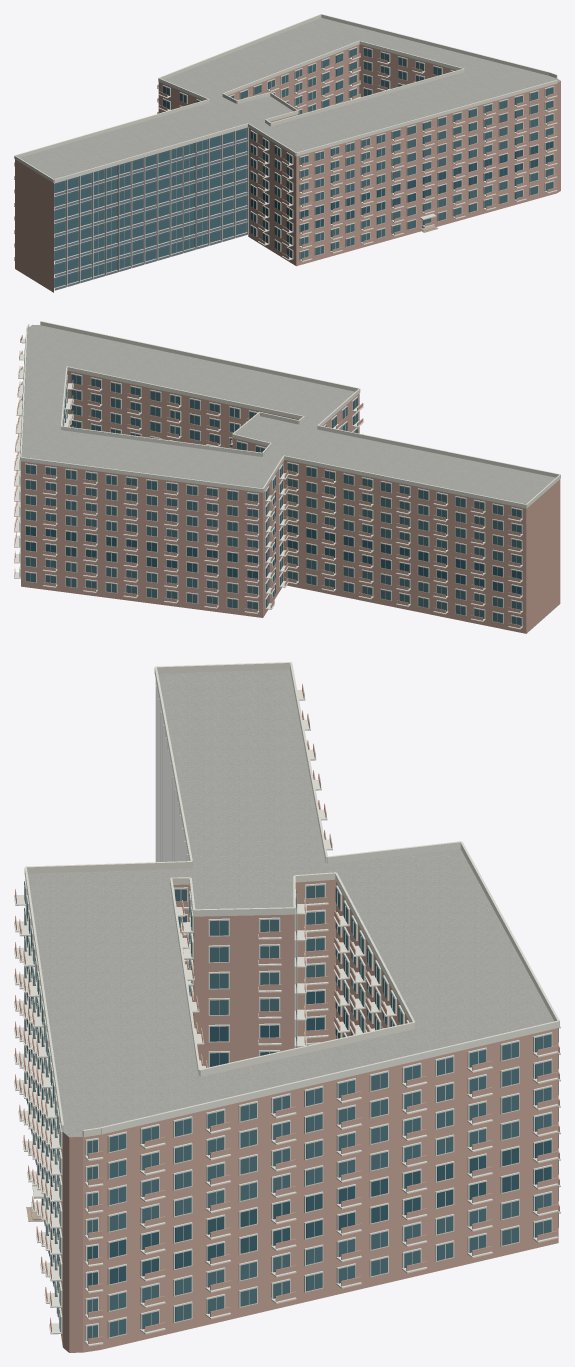
Rendered from chunk-dorm-relation-11971048.glb.
3 renders of one model, top to bottom at view 1: azimuth 30°, elevation 25°; view 2: azimuth 150°, elevation 25°; view 3: azimuth 270°, elevation 25°, orthographic. The views are drawn at different scales.
Visible parts, largest first — view 1: chunk-dorm-relation-11971048; view 2: chunk-dorm-relation-11971048; view 3: chunk-dorm-relation-11971048.
Part boxes in pixels (x1=…): chunk-dorm-relation-11971048: x1=14, y1=14, x2=560, y2=292; chunk-dorm-relation-11971048: x1=14, y1=321, x2=560, y2=633; chunk-dorm-relation-11971048: x1=14, y1=662, x2=560, y2=1352.
Size of the model in its own units: 127 by 27.7 by 61.82.
Materials: 12 (2 with a texture image).
